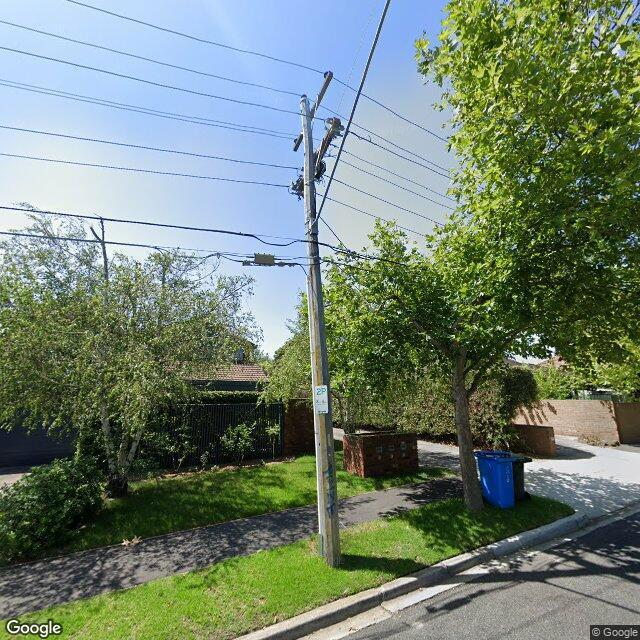HV-transmission: (292, 70, 333, 152)
crossarm: (288, 118, 346, 201), (292, 71, 334, 151)
timber-pole: (299, 99, 342, 569)
